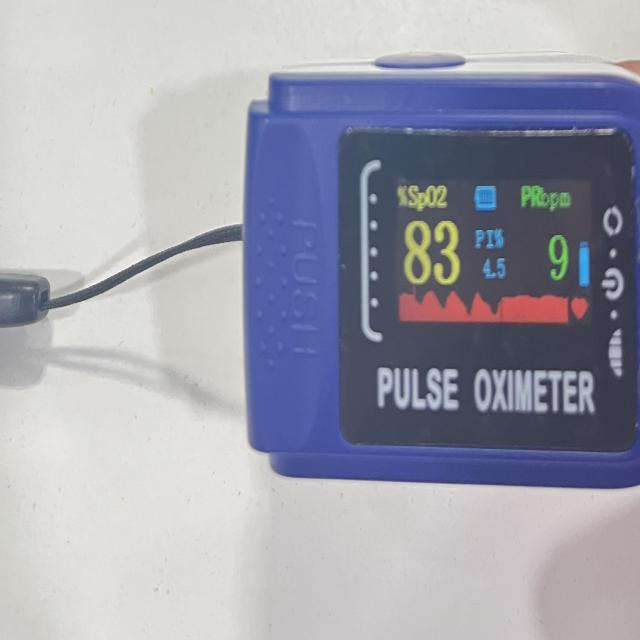spo2: (240, 54, 640, 493)
